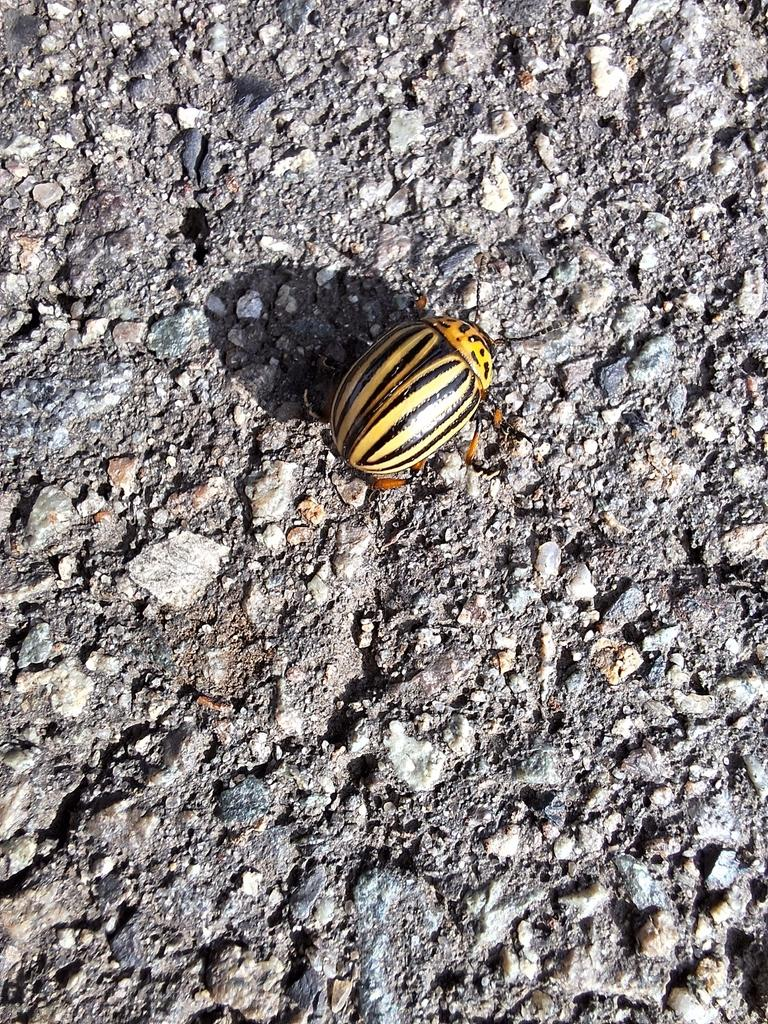potato_beetle: (286, 242, 559, 556)
